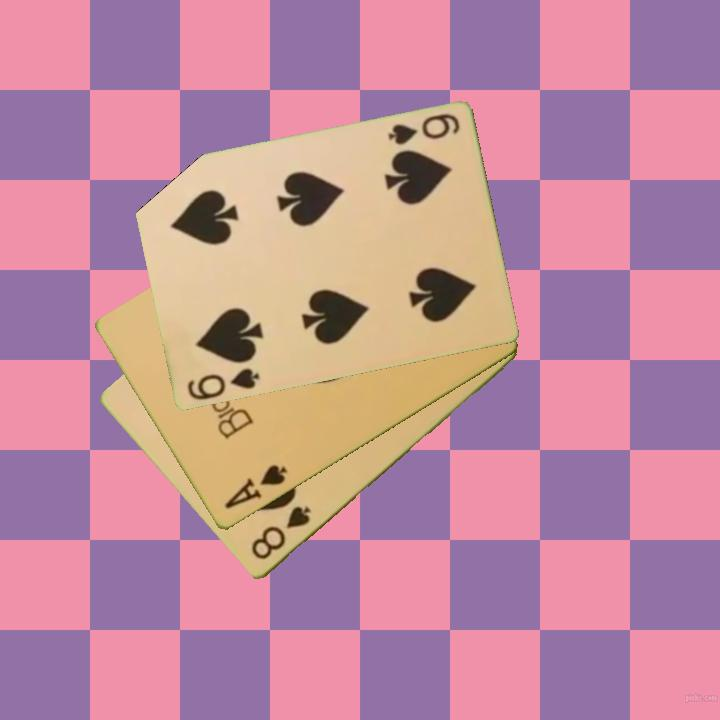6s: (183, 365, 262, 404), (384, 110, 463, 149)
8s: (247, 503, 314, 564)
As: (220, 461, 291, 513)
